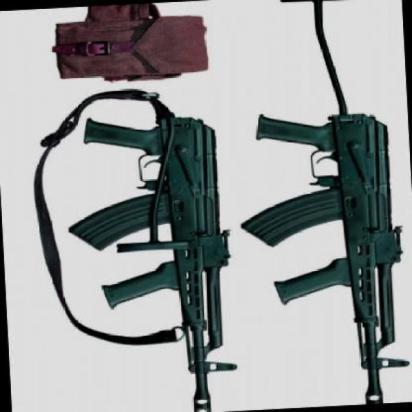Gun: (242, 21, 412, 401)
